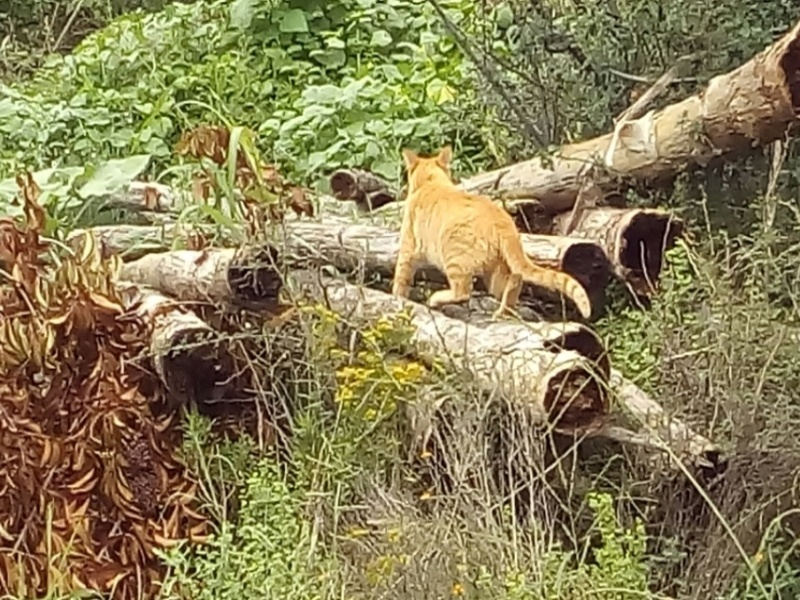cat: (386, 146, 595, 335)
